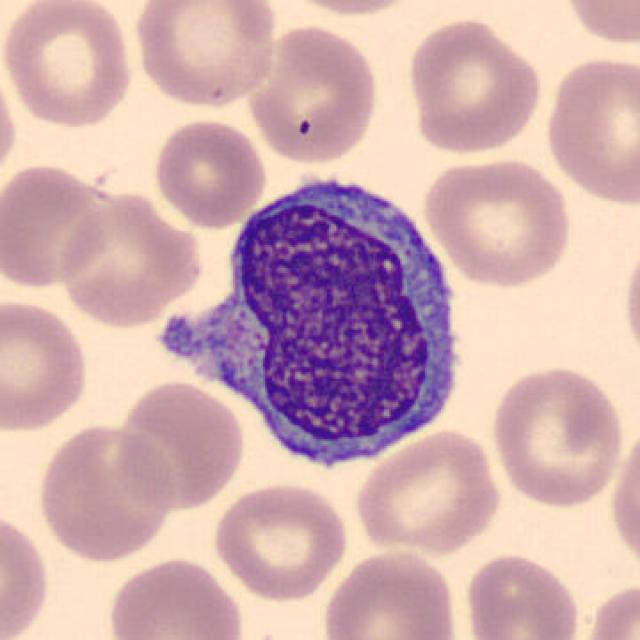Monocyte: (149, 160, 475, 482)
RBC: (54, 187, 206, 331), (420, 153, 576, 290), (32, 420, 178, 564), (487, 360, 626, 511), (350, 425, 505, 557), (244, 21, 382, 168), (404, 14, 544, 157), (110, 377, 247, 513), (0, 0, 137, 130), (210, 480, 352, 603), (129, 0, 279, 109), (0, 159, 119, 291), (540, 51, 640, 208), (150, 115, 268, 231), (318, 545, 462, 640), (0, 294, 92, 435), (105, 553, 247, 640), (460, 550, 585, 640), (0, 504, 53, 640), (606, 421, 640, 573), (554, 0, 638, 49), (578, 578, 638, 640), (618, 227, 640, 370), (268, 0, 431, 18), (0, 62, 21, 187)
